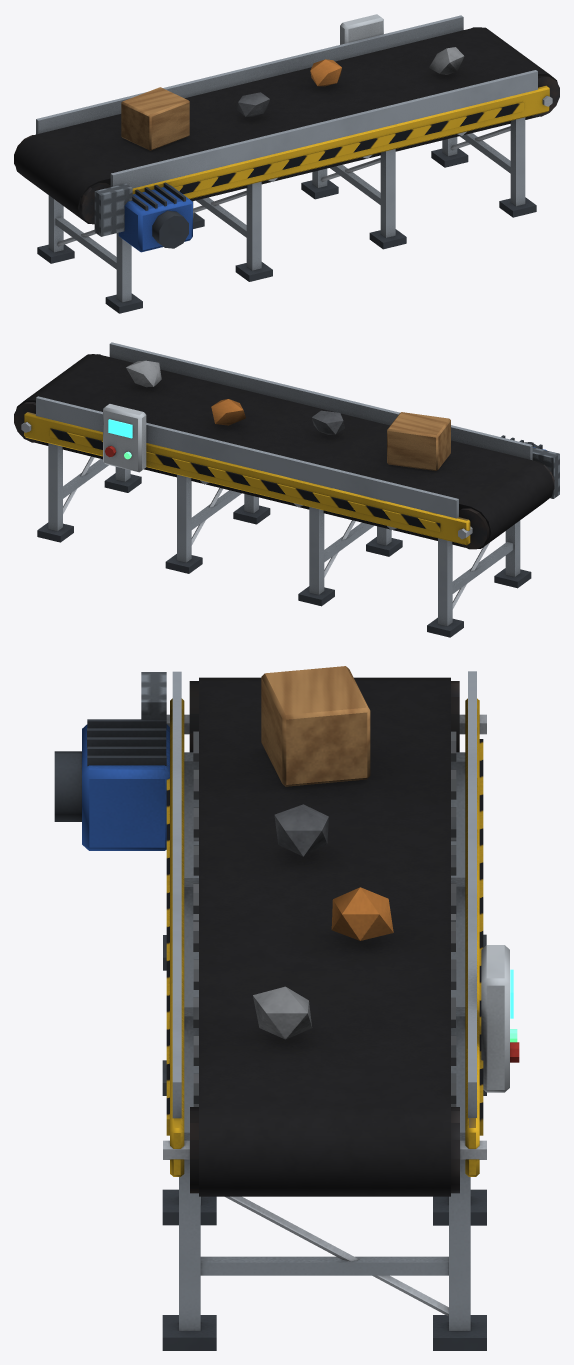
Rendered from cinta_transportadora.fbx.
3 views of the same model, one above another, from view 1: azimuth 30°, elevation 25°; view 2: azimuth 150°, elevation 25°; view 3: azimuth 270°, elevation 25° (orthographic). The views are drawn at different scales.
Parts seen in each view (by area): view 1: cinta_transportadora, cinta_transportadora_banda, cinta_transportadora_rodillos; view 2: cinta_transportadora, cinta_transportadora_banda, cinta_transportadora_rodillos; view 3: cinta_transportadora_banda, cinta_transportadora, cinta_transportadora_rodillos.
Part boxes in pixels (bbox=[...]): cinta_transportadora: bbox=[36, 14, 549, 313]; cinta_transportadora_banda: bbox=[14, 27, 557, 223]; cinta_transportadora_rodillos: bbox=[14, 27, 559, 224]; cinta_transportadora: bbox=[24, 342, 559, 637]; cinta_transportadora_banda: bbox=[16, 354, 554, 548]; cinta_transportadora_rodillos: bbox=[14, 354, 554, 549]; cinta_transportadora_banda: bbox=[199, 677, 450, 1196]; cinta_transportadora: bbox=[54, 666, 519, 1350]; cinta_transportadora_rodillos: bbox=[163, 681, 486, 1193].
Size of the model in its own units: 6.12 by 2.02 by 2.58.
Materials: 2 (2 with a texture image).
